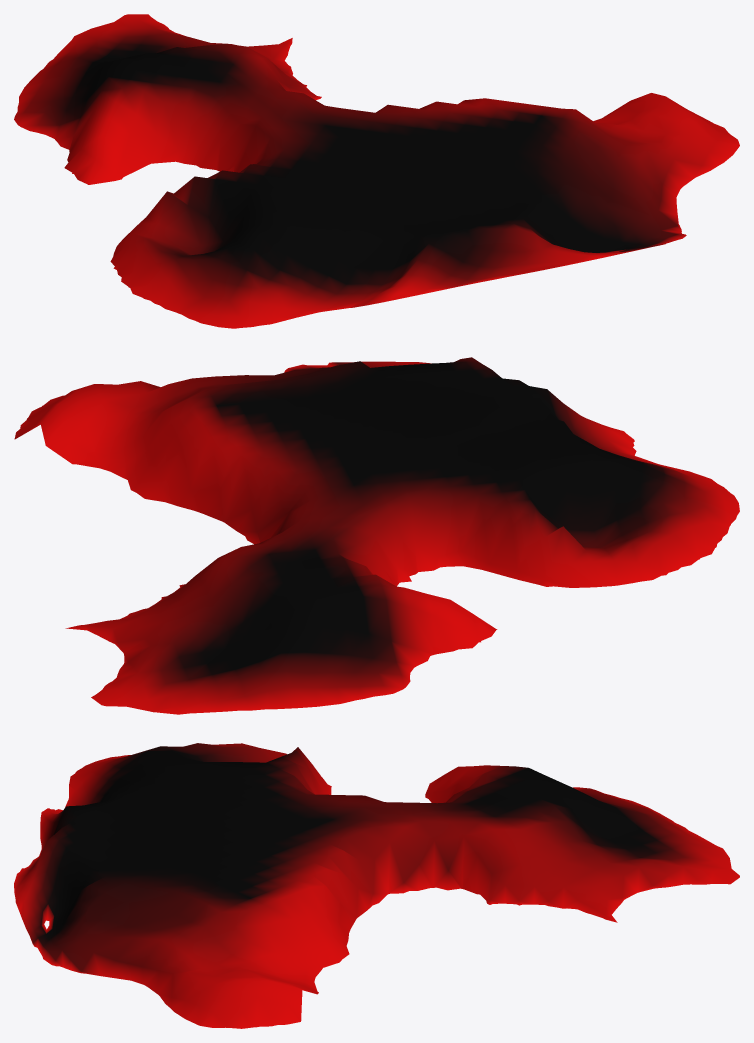
File: DebrisPileV3.fbx
The picture shows the model from 3 angles, top to bottom: view 1: azimuth 30°, elevation 25°; view 2: azimuth 150°, elevation 25°; view 3: azimuth 270°, elevation 25°; orthographic projection. The views are drawn at different scales.
Parts seen in each view (by area): view 1: DebrisPileV3; view 2: DebrisPileV3; view 3: DebrisPileV3.
Part boxes in pixels (x1,y1,x2,y2): DebrisPileV3: (14,14,739,328); DebrisPileV3: (14,357,739,714); DebrisPileV3: (14,743,739,1028).
Size of the model in its own units: 483 by 42.16 by 526.
